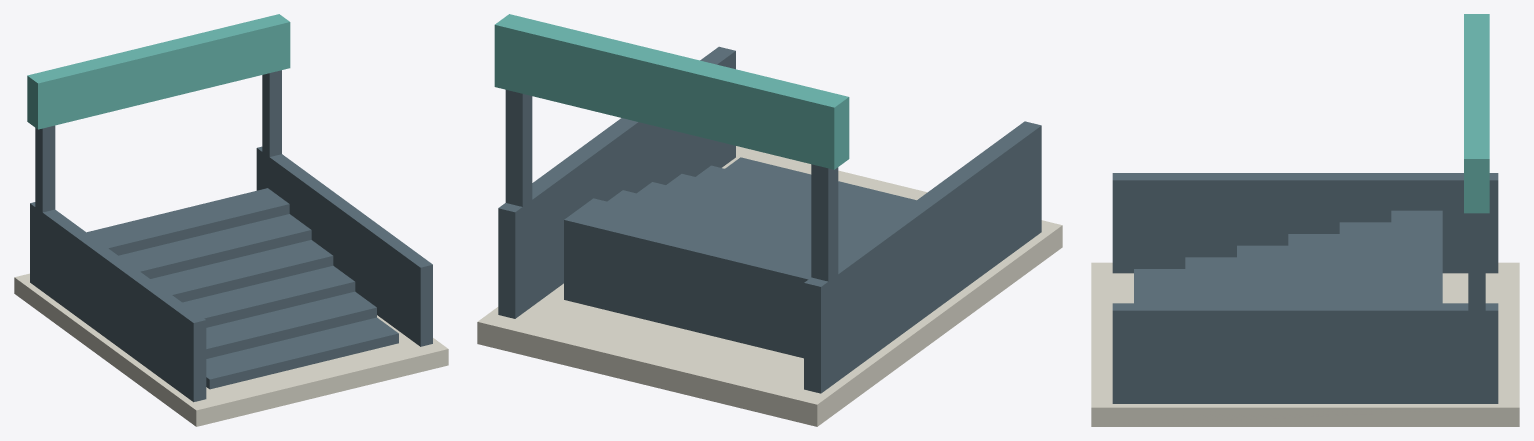
File: voxel-city-districts-metro-entrance-b00f0878__24830.glb
3 renders of one model, left to right at view 1: azimuth 30°, elevation 25°; view 2: azimuth 150°, elevation 25°; view 3: azimuth 270°, elevation 25°, orthographic. The views are drawn at different scales.
Visible parts, largest first — view 1: metro-entrance-dark, metro-entrance-accent, metro-entrance-concrete; view 2: metro-entrance-dark, metro-entrance-concrete, metro-entrance-accent; view 3: metro-entrance-dark, metro-entrance-concrete, metro-entrance-accent.
Part boxes in pixels (box(x1,y1,x2,y2)): metro-entrance-dark: box(30, 70, 432, 402); metro-entrance-accent: box(27, 14, 290, 129); metro-entrance-concrete: box(14, 273, 448, 426); metro-entrance-dark: box(498, 46, 1041, 393); metro-entrance-concrete: box(477, 146, 1062, 426); metro-entrance-accent: box(494, 14, 849, 169); metro-entrance-dark: box(1112, 173, 1498, 403); metro-entrance-concrete: box(1091, 262, 1519, 426); metro-entrance-accent: box(1464, 14, 1489, 213).
Bounding box in the file's own units: 4 × 3.45 × 5.
